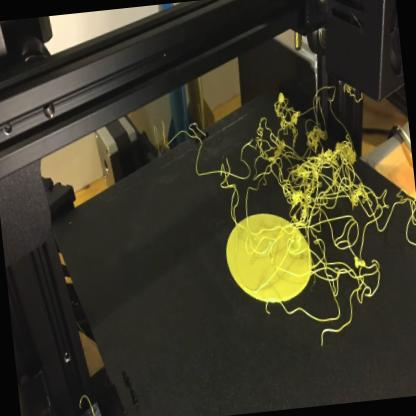fail: (224, 75, 416, 347)
